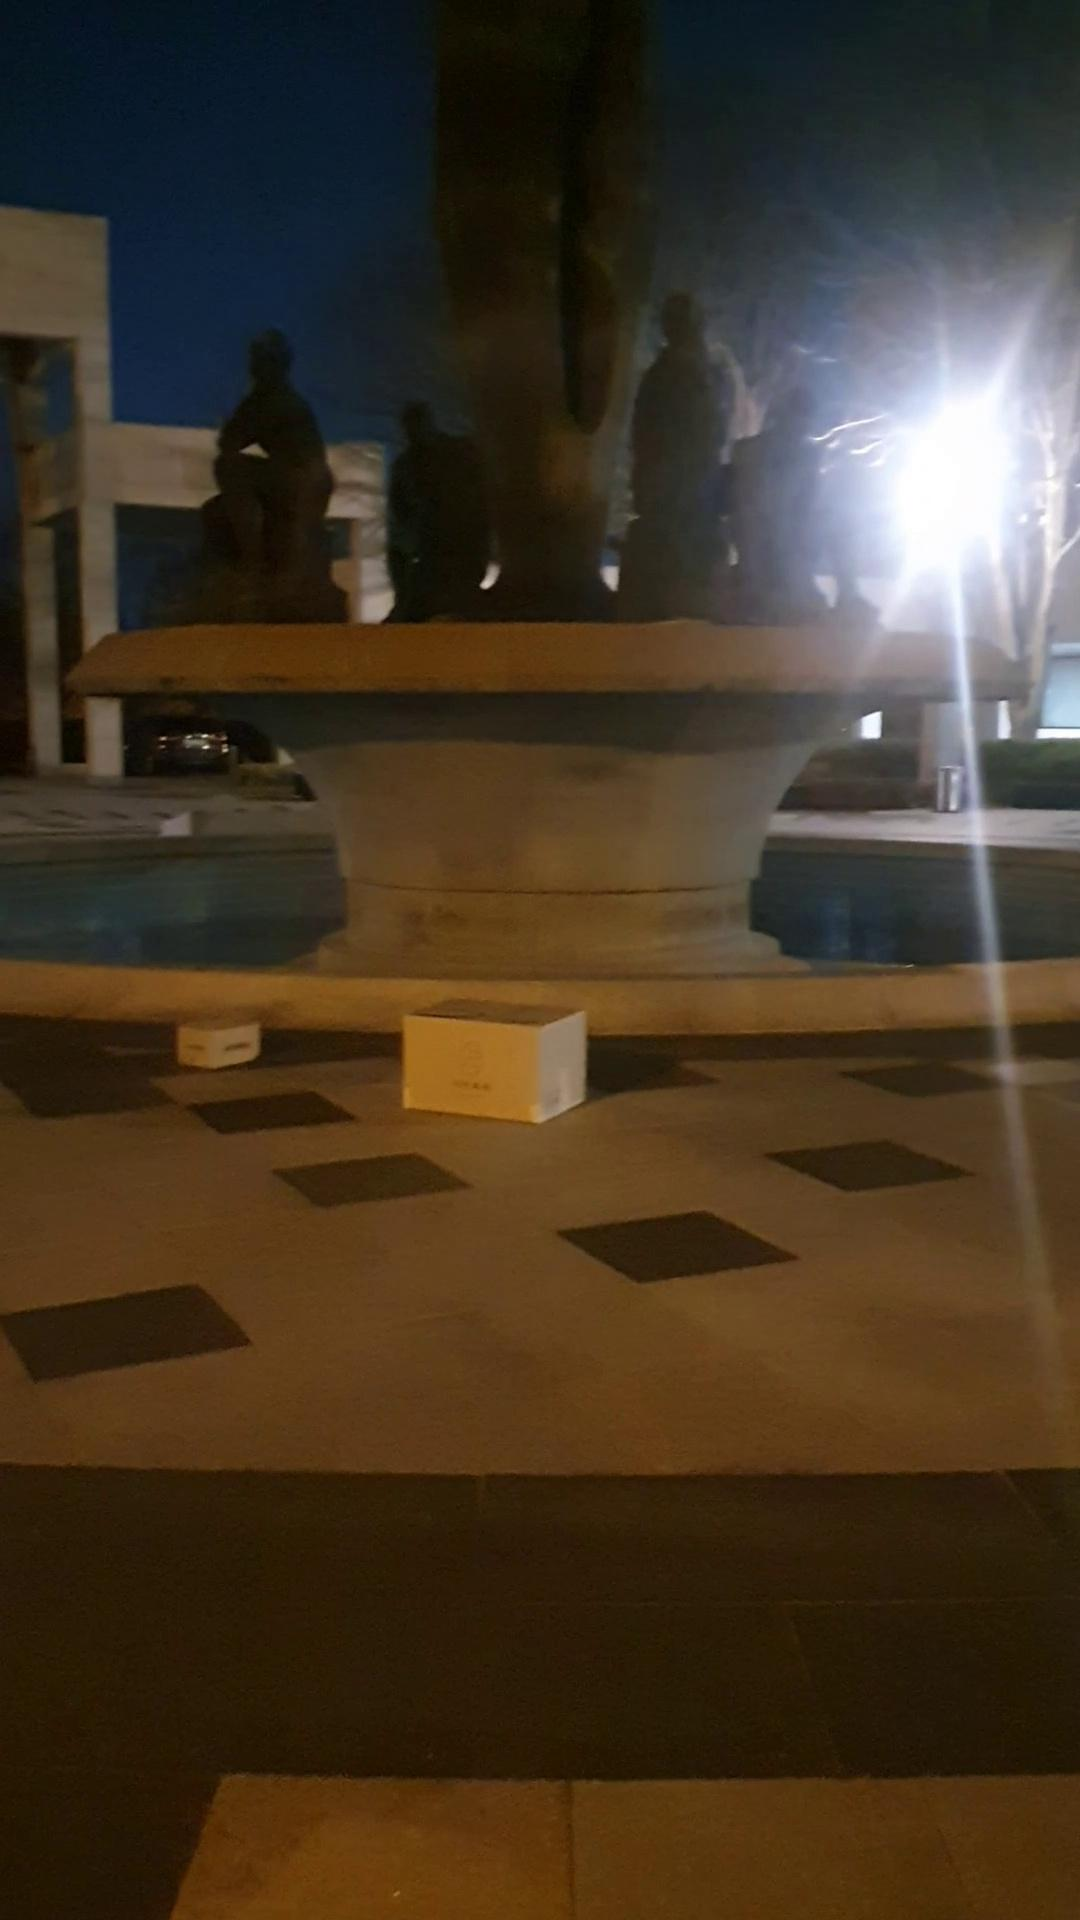Box: (376, 985, 618, 1135), (173, 1004, 276, 1068)
